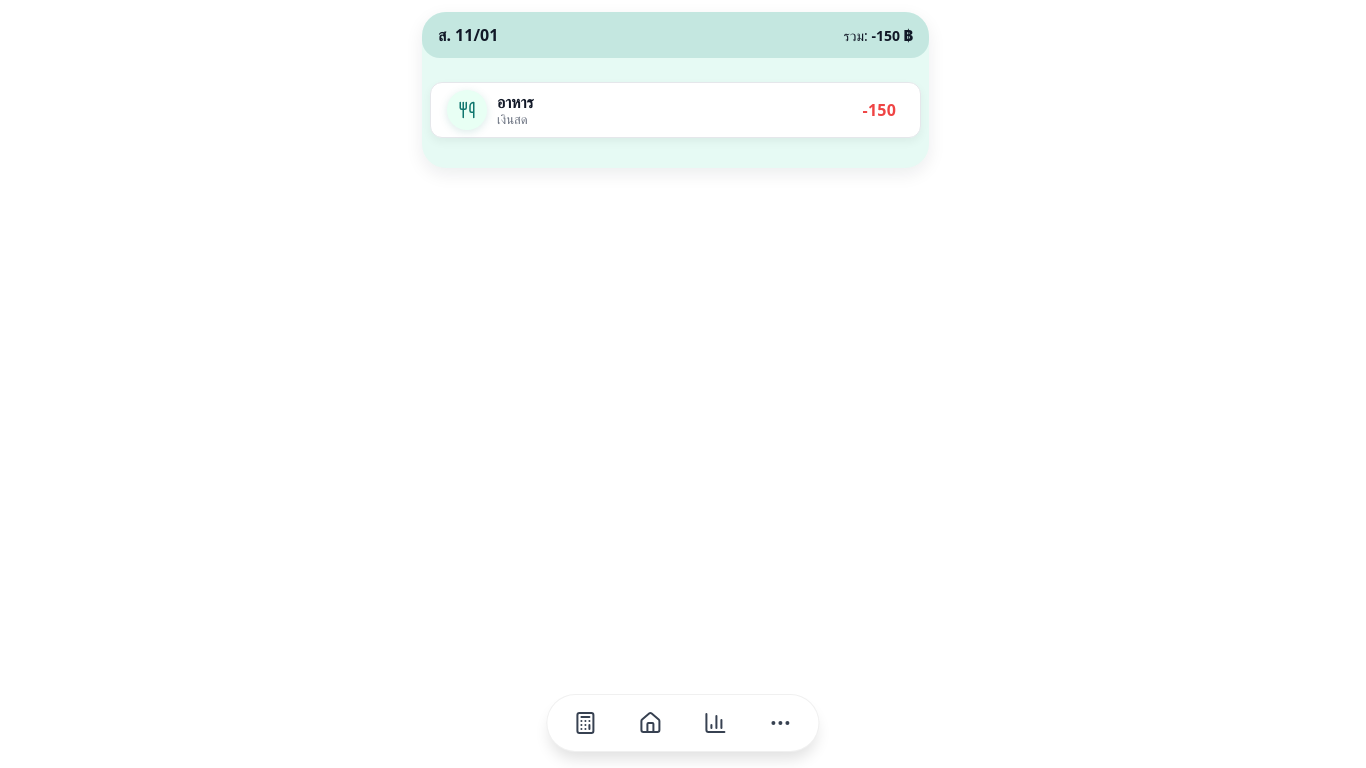
Summary Page › กดปุ่ม X แล้วปิด overlay
Click the text "อาหาร": x=515, y=102 left=497, top=93, right=534, bottom=112
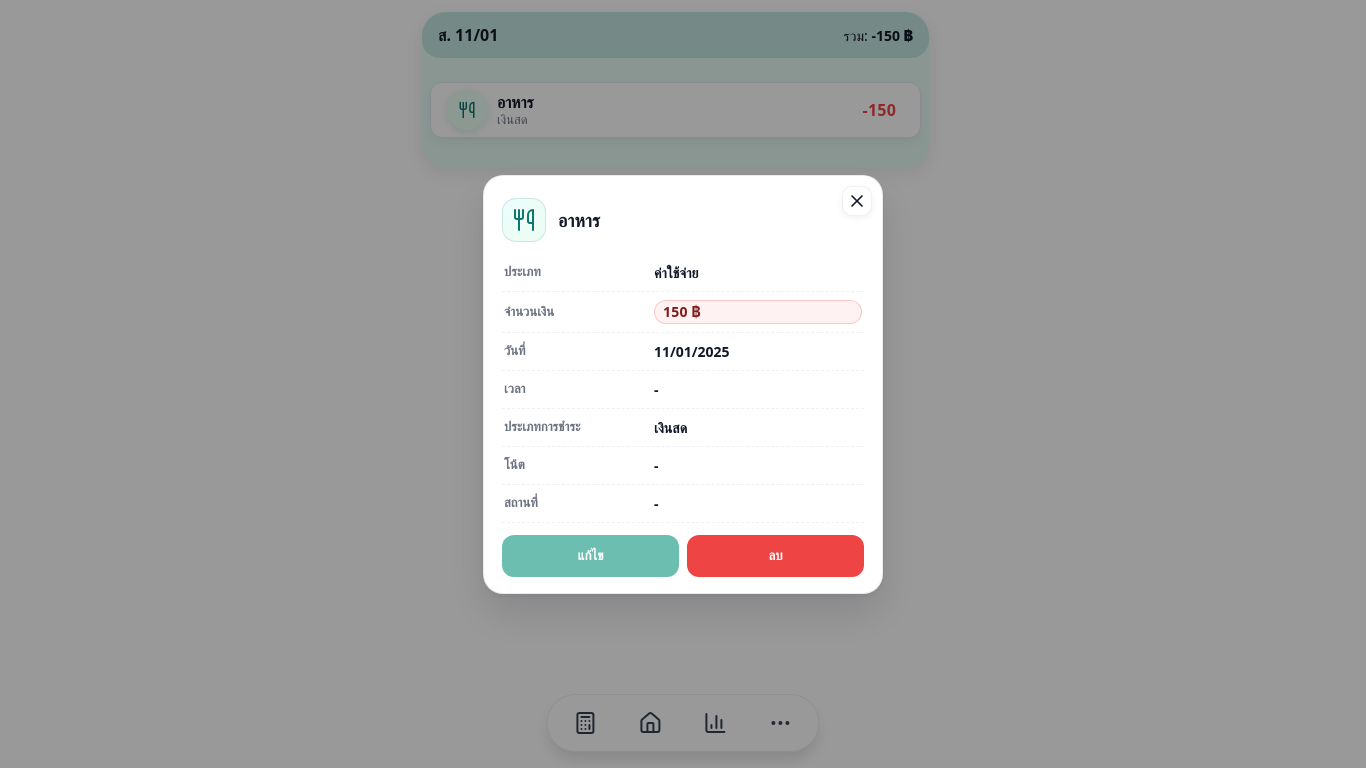
Click the button named "ปิด": x=857, y=200 left=842, top=186, right=872, bottom=216
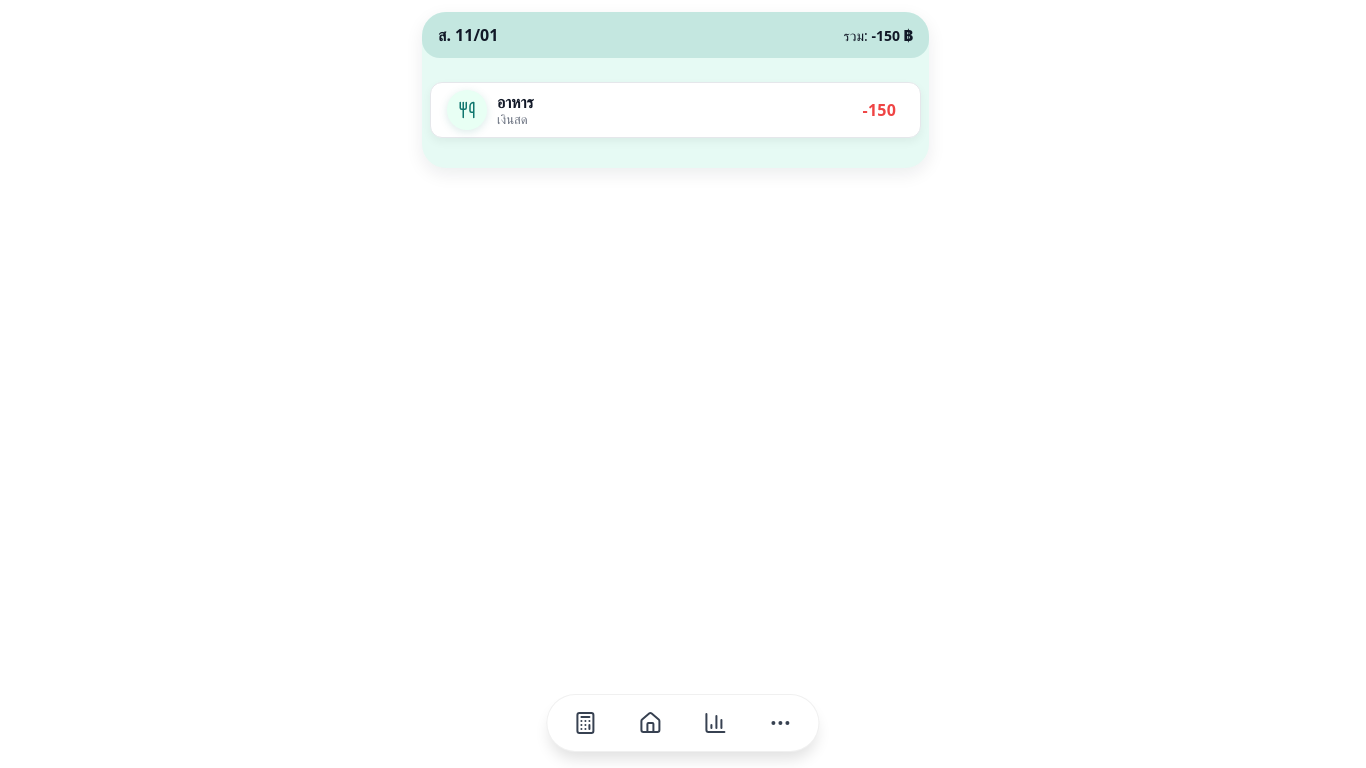
expect the dialog is gone: met
